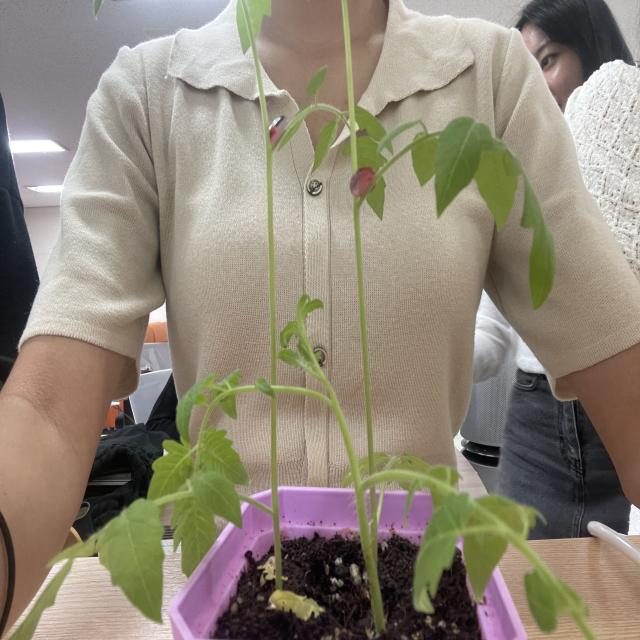bug: (341, 161, 378, 207), (265, 114, 300, 154)
